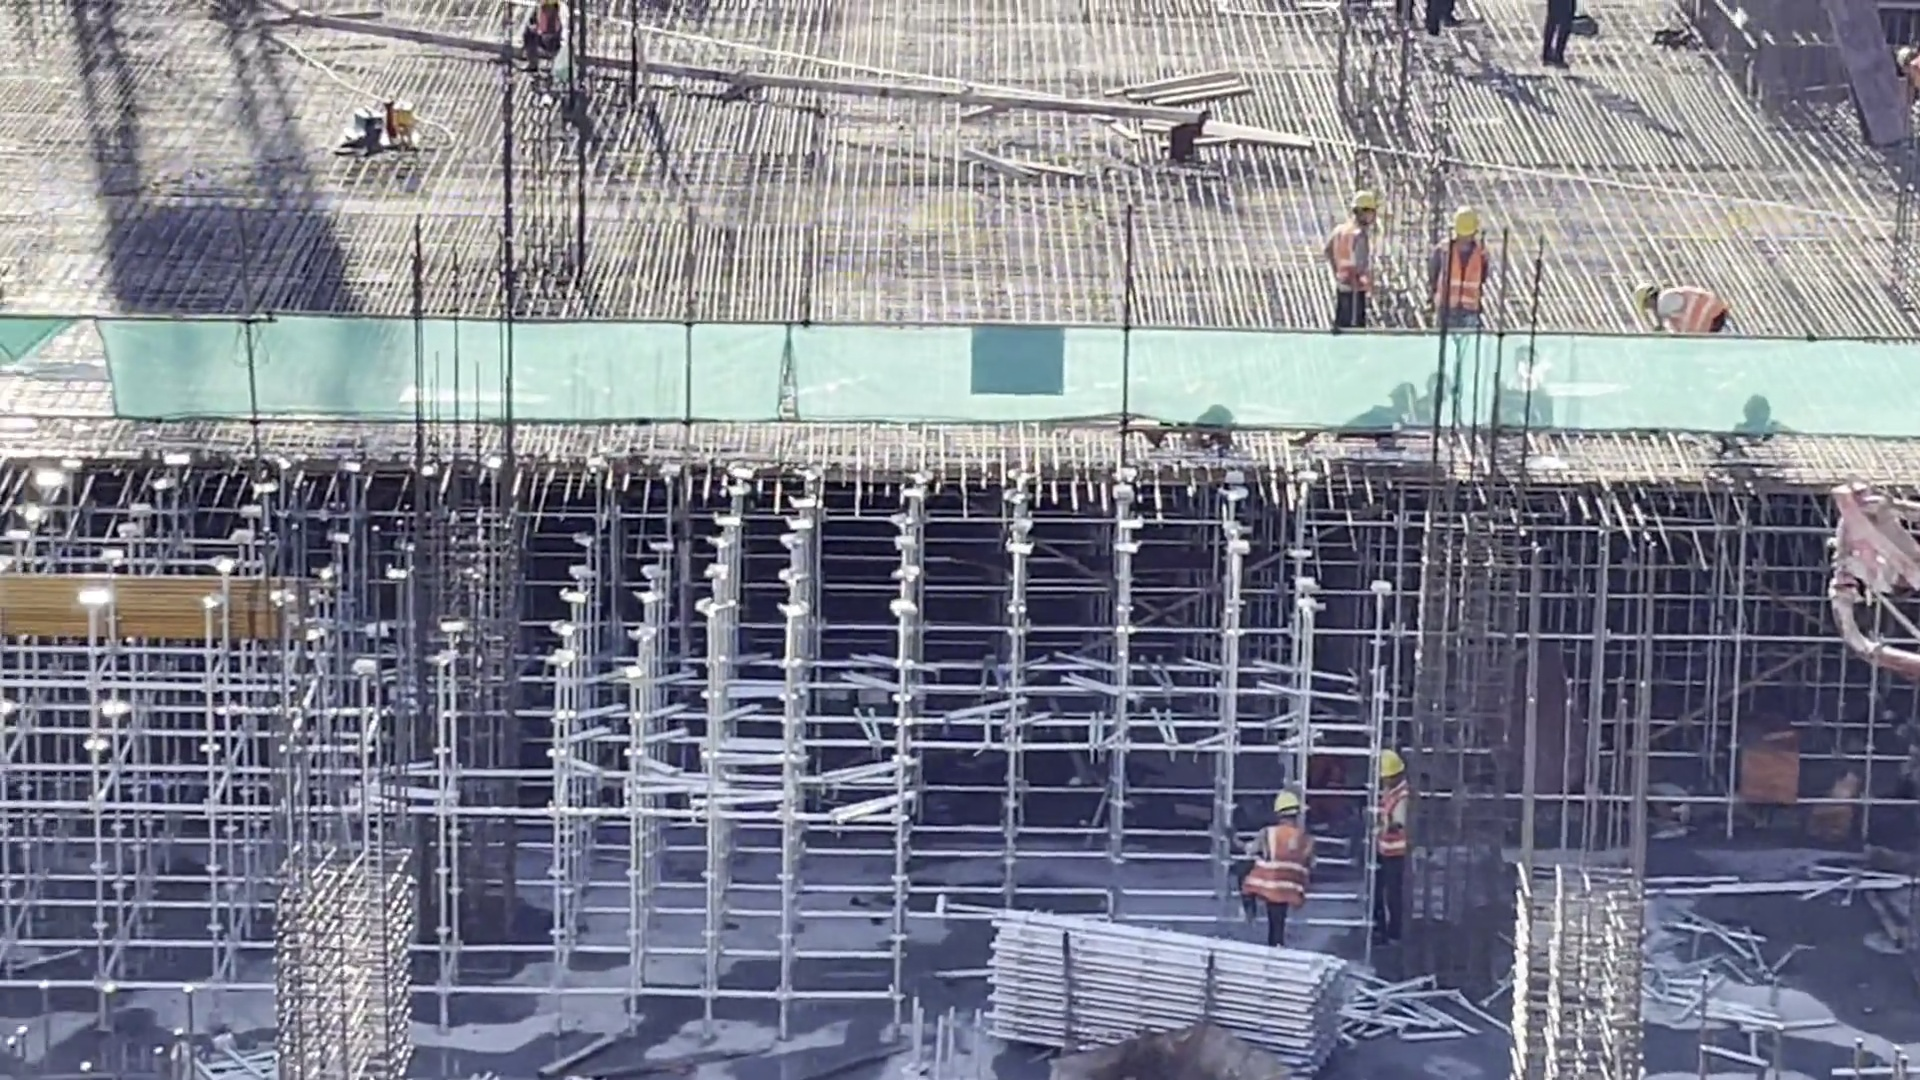cutter: (348, 100, 419, 160)
helmet: (1358, 748, 1421, 787), (1447, 206, 1491, 250), (1277, 778, 1323, 817), (1354, 189, 1378, 231), (1630, 278, 1651, 323)
person: (1315, 189, 1406, 379), (1429, 202, 1511, 394), (1362, 752, 1445, 937), (1244, 783, 1323, 937), (1628, 272, 1748, 368), (514, 1, 575, 79)
scaffold: (986, 905, 1357, 1062)
vest: (1243, 826, 1331, 901), (1323, 227, 1384, 301), (1668, 282, 1725, 353), (1442, 244, 1490, 317), (1377, 791, 1415, 860), (530, 1, 572, 36)
